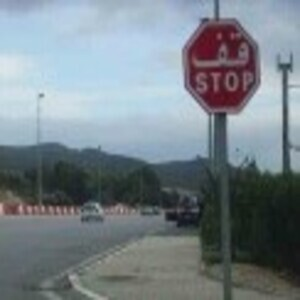stop: (182, 18, 261, 114)
